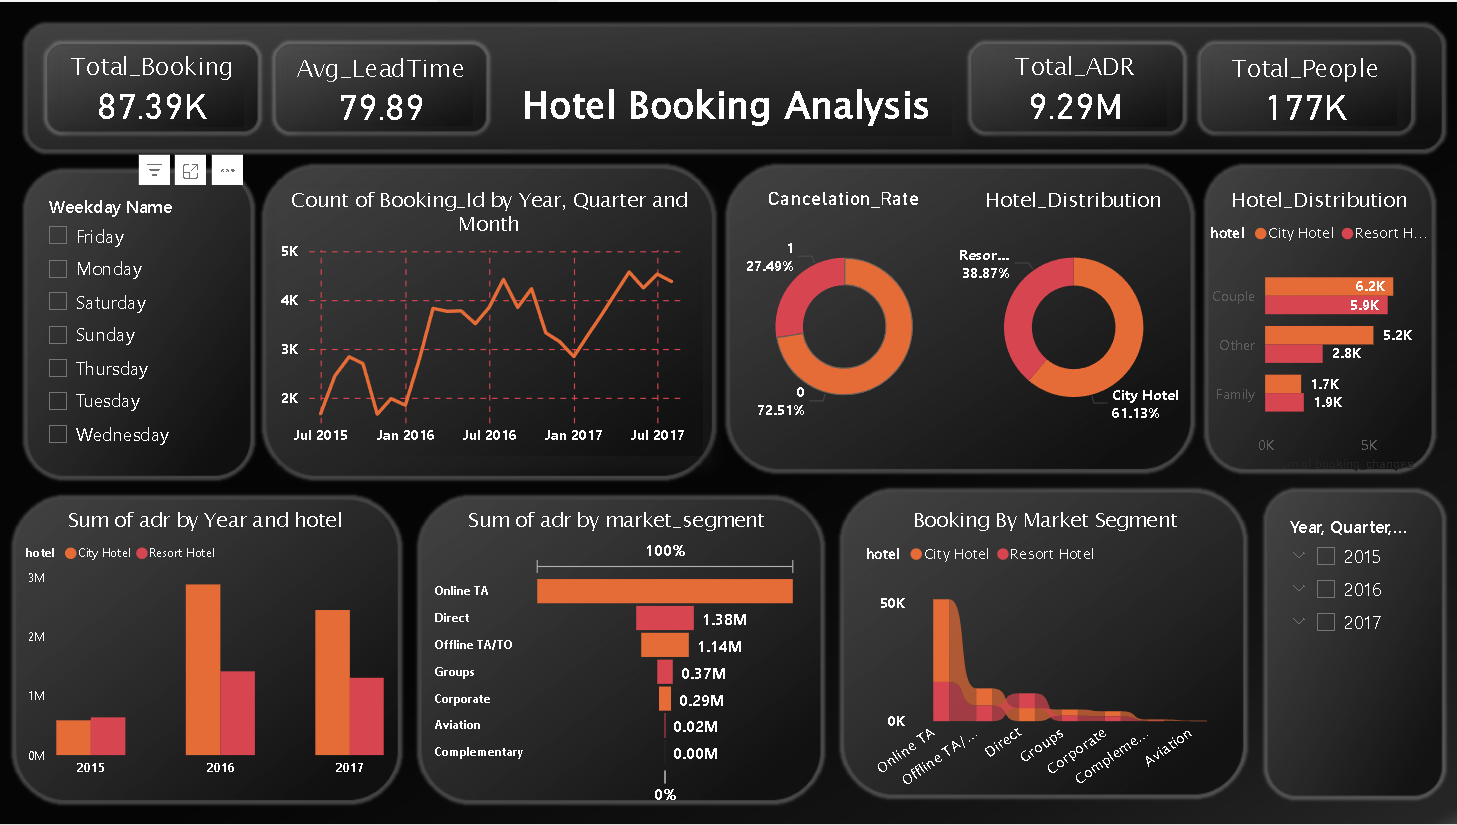

The dashboard page shown, as its layout file describes it:
{"tool":"powerbi","page":{"name":"Hotel_Booking_Analysis_DashBoard","canvas":[1280,720],"ordinal":0},"visuals":[{"type":"card","title":"Total_Booking","fields":{"Values":["CountNonNull(Hotel Bookings (1).Booking_Id)"]},"box":[54.5,43.1,161.1,65.9],"z":0},{"type":"donutChart","title":"Cancelation_Rate","fields":{"Category":["Hotel Bookings (1).is_canceled"],"Y":["CountNonNull(Hotel Bookings (1).Booking_Id)"]},"box":[640.4,162.3,200.4,224.5],"z":1},{"type":"donutChart","title":"Hotel_Distribution","fields":{"Category":["Hotel Bookings (1).hotel"],"Y":["CountNonNull(Hotel Bookings (1).Booking_Id)"]},"box":[840.8,162.3,201.6,224.5],"z":2},{"type":"ribbonChart","title":"Booking By Market Segment","fields":{"Category":["Hotel Bookings (1).market_segment"],"Y":["CountNonNull(Hotel Bookings (1).Booking_Id)"],"Series":["Hotel Bookings (1).hotel"]},"box":[754.5,442.6,324.6,256.2],"z":3},{"type":"lineChart","fields":{"Category":["Hotel Bookings (1).arrival_date.Variation.Date Hierarchy.Year","Hotel Bookings (1).arrival_date.Variation.Date Hierarchy.Quarter","Hotel Bookings (1).arrival_date.Variation.Date Hierarchy.Month","Hotel Bookings (1).arrival_date.Variation.Date Hierarchy.Day"],"Y":["CountNonNull(Hotel Bookings (1).Booking_Id)"]},"box":[242.2,162.3,375.4,235.9],"z":4},{"type":"funnel","fields":{"Category":["Hotel Bookings (1).market_segment"],"Y":["Sum(Hotel Bookings (1).adr)"]},"box":[377.9,442.6,328.4,266.3],"z":5},{"type":"clusteredColumnChart","fields":{"Category":["Hotel Bookings (1).arrival_date.Variation.Date Hierarchy.Year","Hotel Bookings (1).arrival_date.Variation.Date Hierarchy.Quarter","Hotel Bookings (1).arrival_date.Variation.Date Hierarchy.Month","Hotel Bookings (1).arrival_date.Variation.Date Hierarchy.Day"],"Y":["Sum(Hotel Bookings (1).adr)"],"Series":["Hotel Bookings (1).hotel"]},"box":[20.3,442.6,323.4,246],"z":6},{"type":"clusteredBarChart","title":"Hotel_Distribution","fields":{"Category":["Hotel Bookings (1).GuestType"],"Y":["Sum(Hotel Bookings (1).booking_changes)"],"Series":["Hotel Bookings (1).hotel"]},"box":[1056.3,162.3,201.6,253.6],"z":7},{"type":"card","title":"Avg_LeadTime","fields":{"Values":["Avg(Hotel Bookings (1).lead_time)"]},"box":[254.9,44.4,161.1,64.7],"z":8},{"type":"card","title":"Total_ADR","fields":{"Values":["Sum(Hotel Bookings (1).adr)"]},"box":[863.6,43.1,161.1,65.9],"z":9},{"type":"card","title":"Total_People","fields":{"Values":["Sum(Hotel Bookings (1).total_people)"]},"box":[1065.2,44.4,161.1,64.7],"z":10},{"type":"textbox","box":[440,63.4,395.7,54.5],"z":11},{"type":"slicer","fields":{"Values":["Hotel Bookings (1).arrival_date.Variation.Date Hierarchy.Year","Hotel Bookings (1).arrival_date.Variation.Date Hierarchy.Quarter","Hotel Bookings (1).arrival_date.Variation.Date Hierarchy.Month","Hotel Bookings (1).arrival_date.Variation.Date Hierarchy.Day"]},"box":[1118.5,442.6,139.5,246],"z":12},{"type":"slicer","fields":{"Values":["Hotel Bookings (1).Weekday Name"]},"box":[31.7,162.3,183.9,246],"z":13}]}

Visuals, with their boxes in screenshot pixels (x1, y1, x2, y2), scaled from the page's 1280x720 canvas onto the 1457x825 screenshot:
"Total_Booking" card: x1=62, y1=49, x2=245, y2=125
"Cancelation_Rate" donutChart: x1=729, y1=186, x2=957, y2=443
"Hotel_Distribution" donutChart: x1=957, y1=186, x2=1187, y2=443
"Booking By Market Segment" ribbonChart: x1=859, y1=507, x2=1228, y2=801
lineChart - Hotel Bookings (1).arrival_date.Variation.Date Hierarchy.Year x Hotel Bookings (1).arrival_date.Variation.Date Hierarchy.Quarter: x1=276, y1=186, x2=703, y2=456
funnel - Hotel Bookings (1).market_segment x Sum(Hotel Bookings (1).adr): x1=430, y1=507, x2=804, y2=812
clusteredColumnChart - Hotel Bookings (1).arrival_date.Variation.Date Hierarchy.Year x Hotel Bookings (1).arrival_date.Variation.Date Hierarchy.Quarter: x1=23, y1=507, x2=391, y2=789
"Hotel_Distribution" clusteredBarChart: x1=1202, y1=186, x2=1432, y2=477
"Avg_LeadTime" card: x1=290, y1=51, x2=474, y2=125
"Total_ADR" card: x1=983, y1=49, x2=1166, y2=125
"Total_People" card: x1=1212, y1=51, x2=1396, y2=125
textbox: x1=501, y1=73, x2=951, y2=135
slicer - Hotel Bookings (1).arrival_date.Variation.Date Hierarchy.Year x Hotel Bookings (1).arrival_date.Variation.Date Hierarchy.Quarter: x1=1273, y1=507, x2=1432, y2=789
slicer - Hotel Bookings (1).Weekday Name: x1=36, y1=186, x2=245, y2=468
